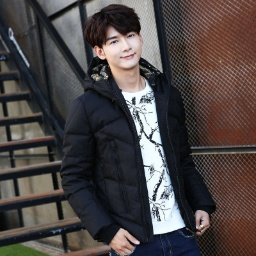face: (84, 4, 146, 71)
